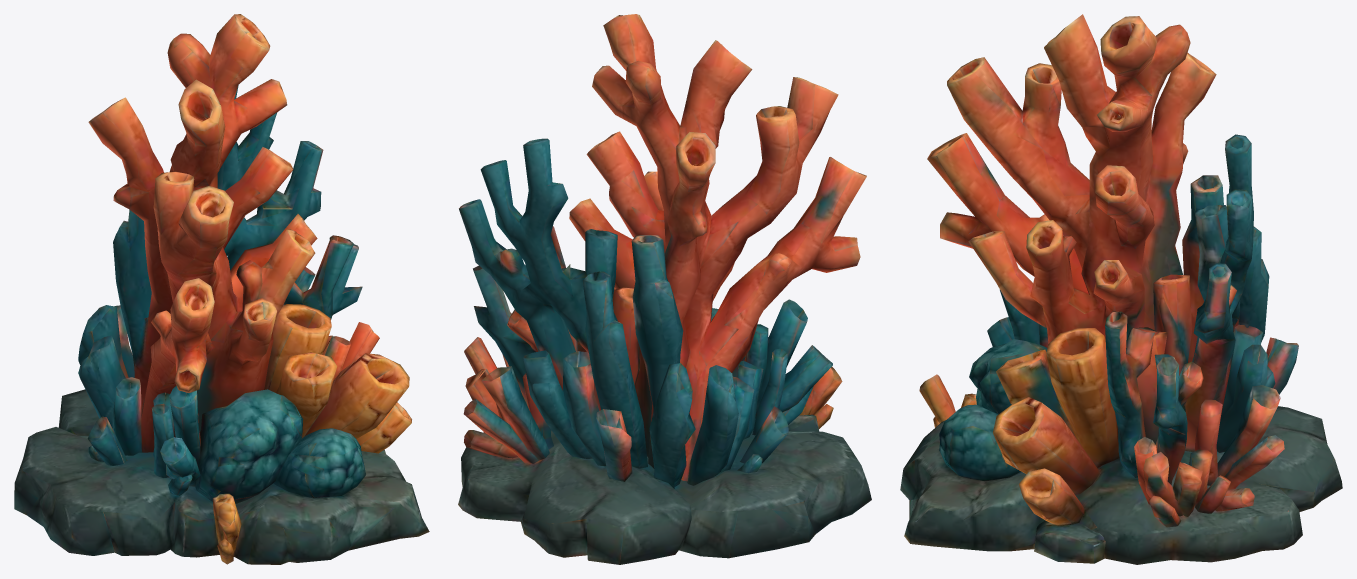
Rendered from prop_deep_coral.glb.
3 renders of one model, left to right at view 1: azimuth 30°, elevation 25°; view 2: azimuth 150°, elevation 25°; view 3: azimuth 270°, elevation 25°, orthographic. The views are drawn at different scales.
Size of the model in its own units: 0.2764 by 0.3481 by 0.2827.
1 material, 1 textured.
